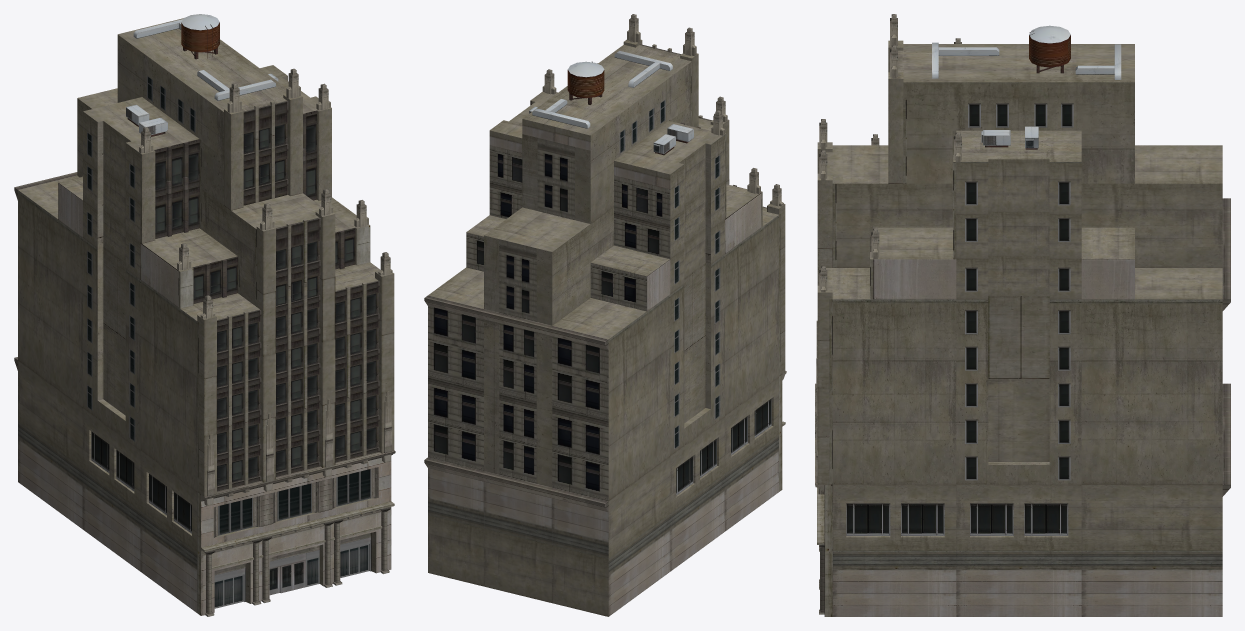
Rendered from artdeco.glb.
The picture shows the model from 3 angles, left to right: view 1: azimuth 30°, elevation 25°; view 2: azimuth 150°, elevation 25°; view 3: azimuth 270°, elevation 25°; orthographic projection. The views are drawn at different scales.
Parts seen in each view (by area): view 1: artdeco; view 2: artdeco; view 3: artdeco.
Boxes of the visible parts, box(x1,y1,x2,y2) form: artdeco: box(14, 14, 395, 616); artdeco: box(424, 14, 786, 616); artdeco: box(815, 14, 1230, 616).
Bounding box in the file's own units: 18.02 × 45.07 × 31.35.
3 materials, 3 textured.
